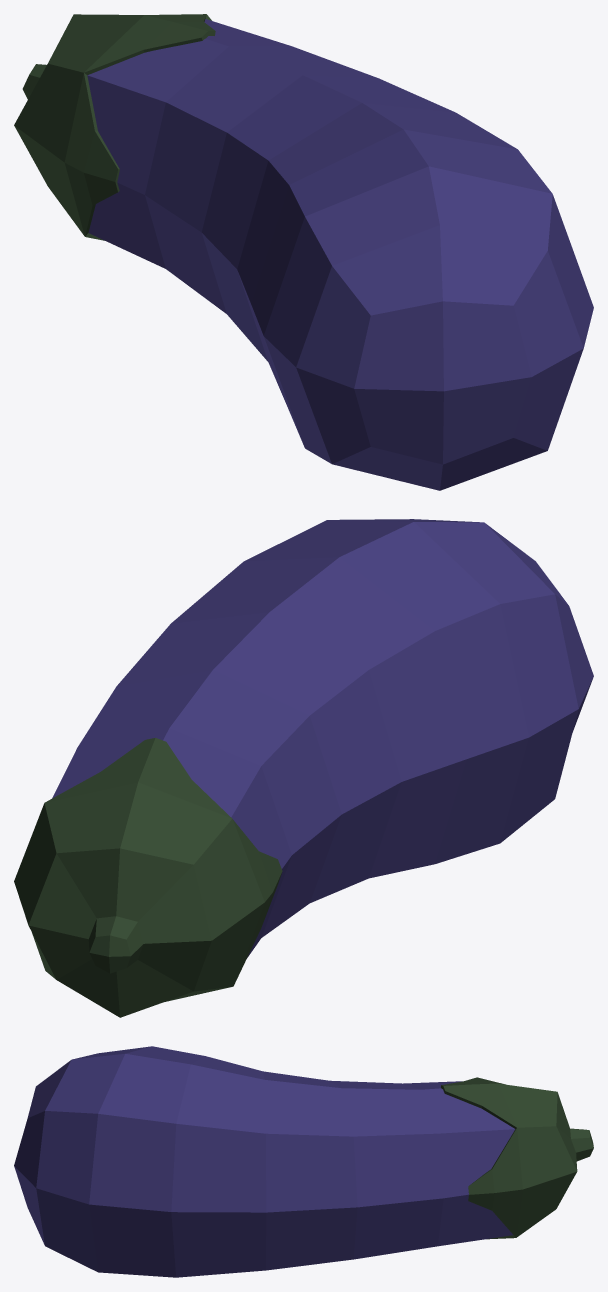
The model's file is Eggplant.fbx.
3 renders of one model, top to bottom at view 1: azimuth 30°, elevation 25°; view 2: azimuth 150°, elevation 25°; view 3: azimuth 270°, elevation 25°, orthographic. The views are drawn at different scales.
Parts seen in each view (by area): view 1: Eggplant.006, Eggplant.005, Eggplant.001, Eggplant.007, Eggplant.002, Eggplant.003, Eggplant.004, Eggplant; view 2: Eggplant, Eggplant.004, Eggplant.003, Eggplant.002, Eggplant.007, Eggplant.005, Eggplant.001, Eggplant.006; view 3: Eggplant.004, Eggplant.003, Eggplant.002, Eggplant.007, Eggplant.001, Eggplant.005, Eggplant, Eggplant.006.
Part boxes in pixels (x1=…): Eggplant.006: x1=296, y1=225, x2=583, y2=490; Eggplant.005: x1=264, y1=166, x2=593, y2=463; Eggplant.001: x1=64, y1=14, x2=291, y2=268; Eggplant.007: x1=145, y1=46, x2=377, y2=313; Eggplant.002: x1=201, y1=75, x2=454, y2=361; Eggplant.003: x1=251, y1=129, x2=552, y2=444; Eggplant.004: x1=237, y1=103, x2=517, y2=408; Eggplant: x1=14, y1=14, x2=143, y2=236; Eggplant: x1=14, y1=782, x2=264, y2=1017; Eggplant.004: x1=171, y1=557, x2=466, y2=878; Eggplant.003: x1=244, y1=520, x2=528, y2=863; Eggplant.002: x1=117, y1=612, x2=401, y2=902; Eggplant.007: x1=78, y1=670, x2=341, y2=937; Eggplant.005: x1=337, y1=519, x2=578, y2=842; Eggplant.001: x1=45, y1=728, x2=291, y2=984; Eggplant.006: x1=485, y1=523, x2=593, y2=730; Eggplant.004: x1=171, y1=1056, x2=266, y2=1277; Eggplant.003: x1=89, y1=1046, x2=205, y2=1277; Eggplant.002: x1=263, y1=1071, x2=357, y2=1270; Eggplant.007: x1=330, y1=1080, x2=443, y2=1259; Eggplant.001: x1=403, y1=1077, x2=522, y2=1246; Eggplant.005: x1=36, y1=1046, x2=151, y2=1271; Eggplant: x1=481, y1=1078, x2=593, y2=1237; Eggplant.006: x1=14, y1=1060, x2=70, y2=1245.
Bounding box in the file's own units: 74.63 × 71.8 × 179.
